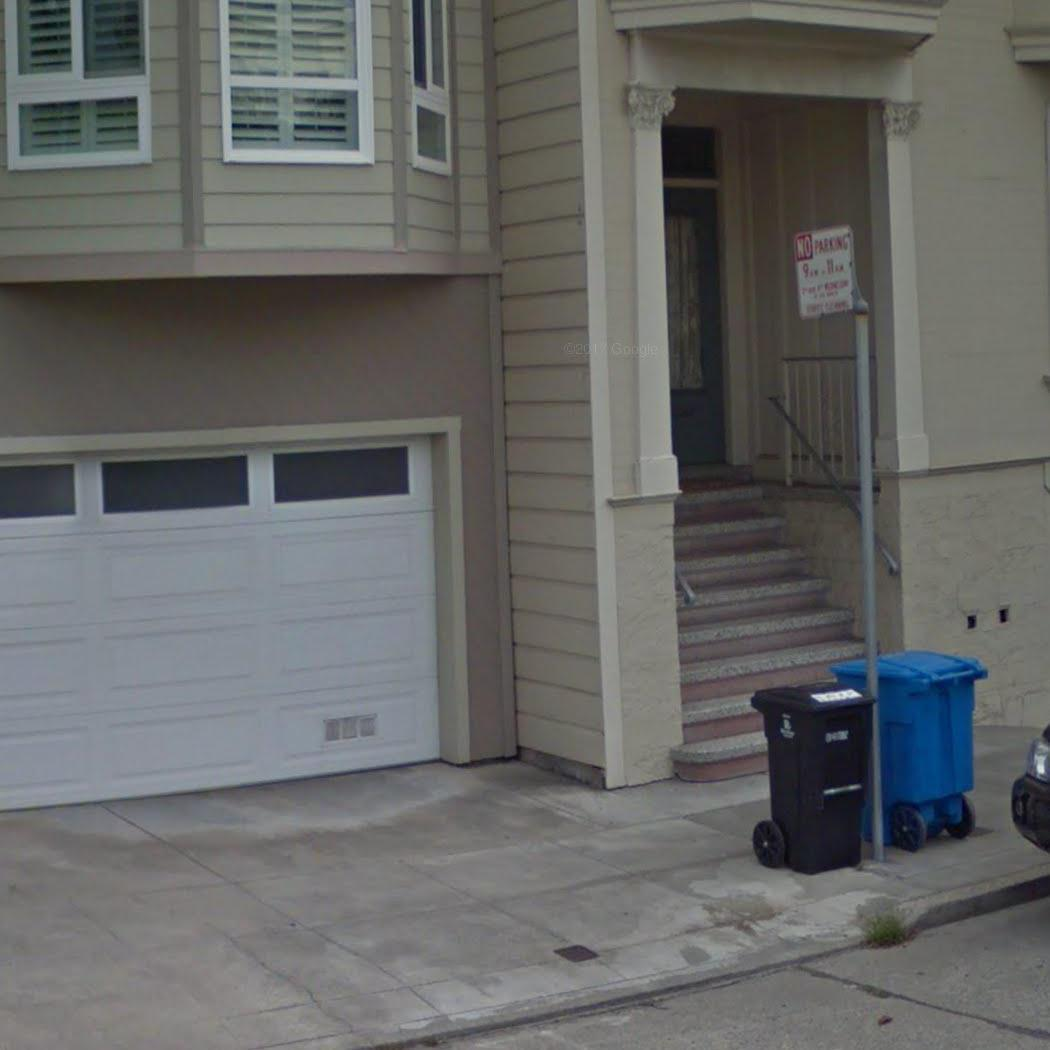No Parking: (789, 220, 861, 324)
